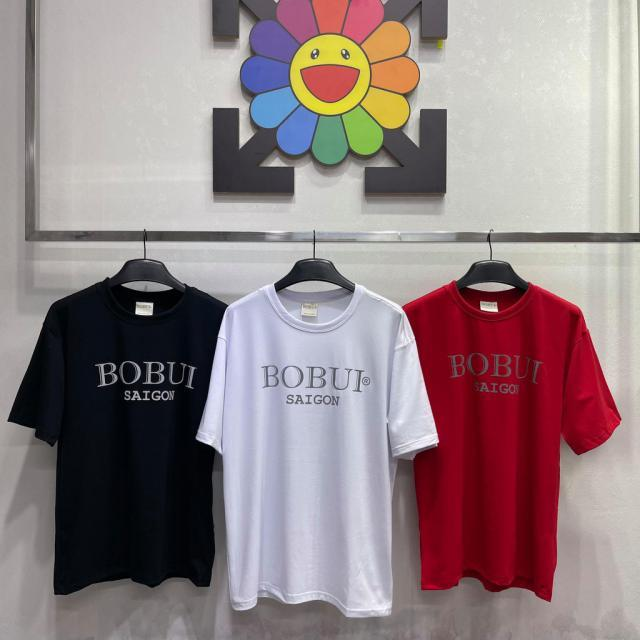Shirt: (202, 282, 437, 618), (11, 282, 236, 597), (402, 280, 626, 596)
